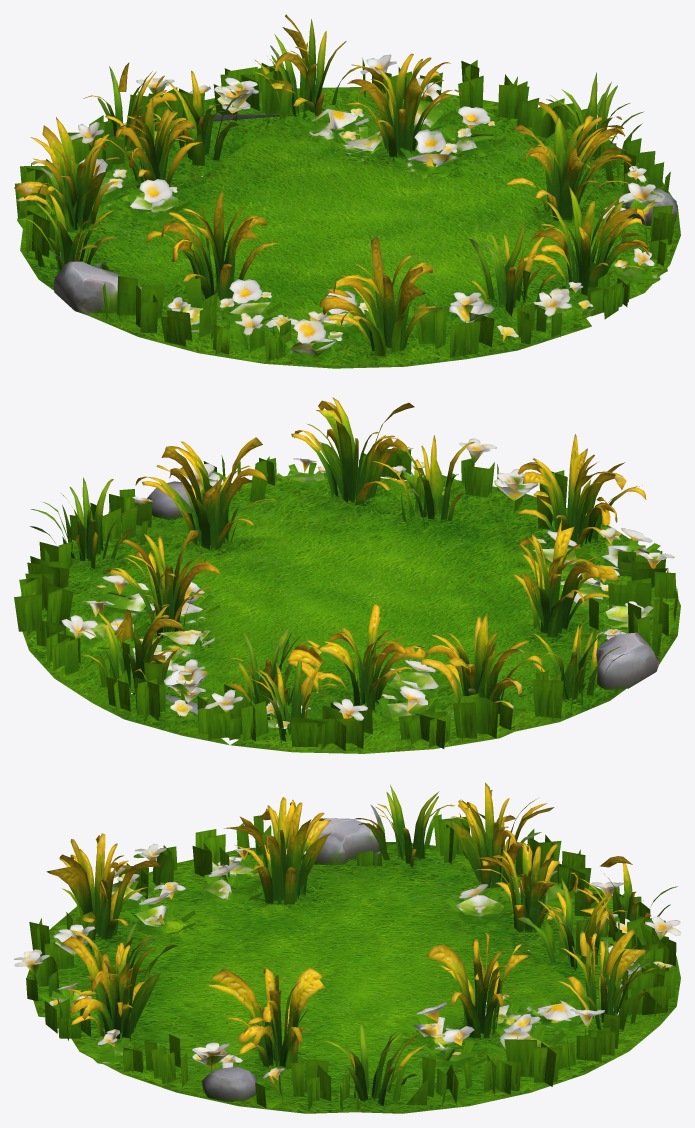
Rendered from dewi-sri-taman.glb.
The picture shows the model from 3 angles, top to bottom: view 1: azimuth 30°, elevation 25°; view 2: azimuth 150°, elevation 25°; view 3: azimuth 270°, elevation 25°; orthographic projection. The views are drawn at different scales.
Parts seen in each view (by area): view 1: tripo_node_53391777-a6ce-4ea9-bd30-f03447eb1c02; view 2: tripo_node_53391777-a6ce-4ea9-bd30-f03447eb1c02; view 3: tripo_node_53391777-a6ce-4ea9-bd30-f03447eb1c02.
Part boxes in pixels (x1,y1,x2,y2): tripo_node_53391777-a6ce-4ea9-bd30-f03447eb1c02: [14, 14, 680, 368]; tripo_node_53391777-a6ce-4ea9-bd30-f03447eb1c02: [14, 397, 680, 753]; tripo_node_53391777-a6ce-4ea9-bd30-f03447eb1c02: [14, 782, 680, 1113].
Size of the model in its own units: 0.9897 by 0.1606 by 0.9995.
Materials: 1 (1 with a texture image).
